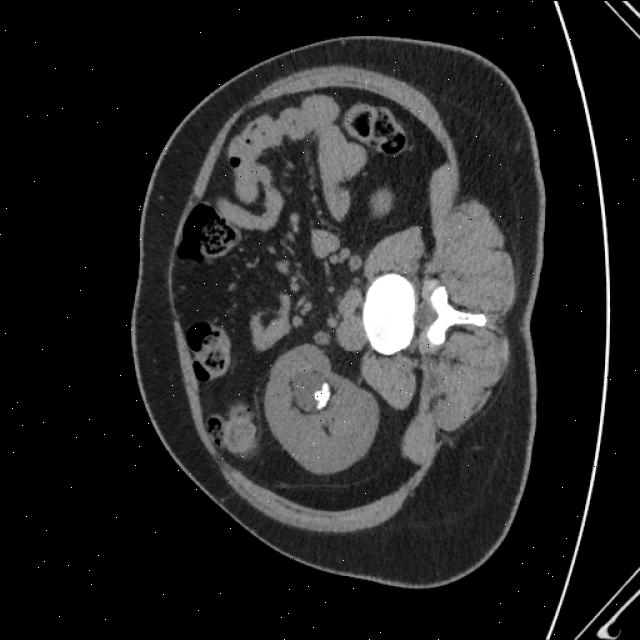kidneystone: (314, 381, 331, 409)
